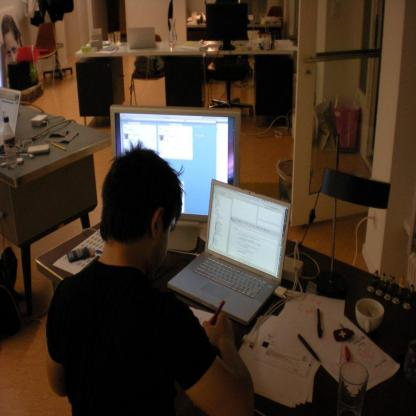board: (155, 181, 296, 335), (0, 87, 22, 148), (126, 25, 160, 50)
